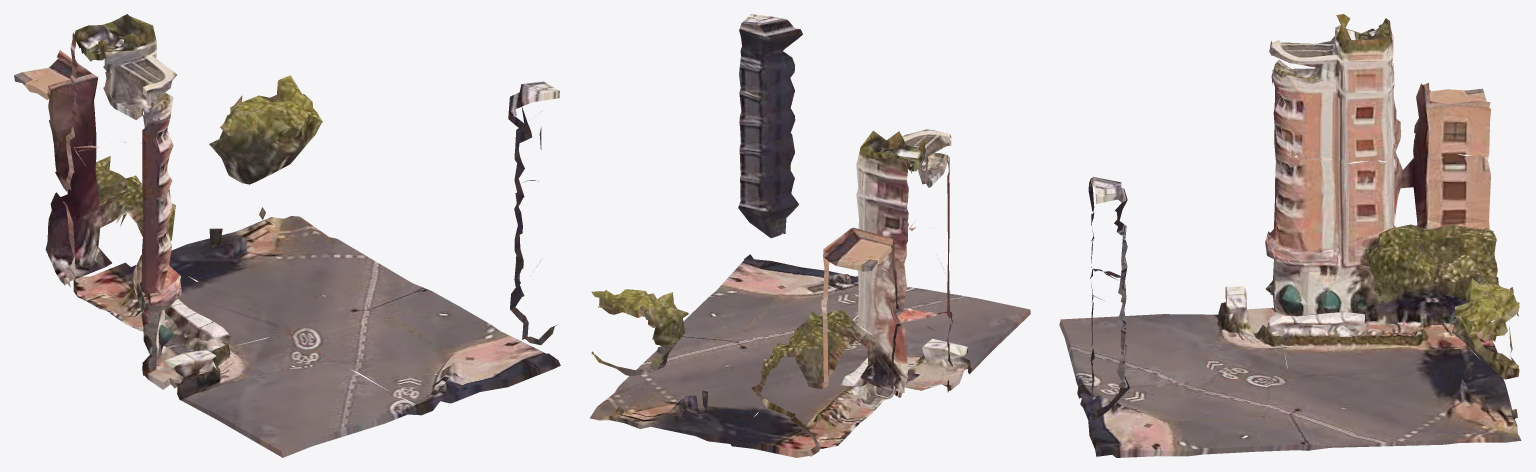
3 views of the same model, side by side, from view 1: azimuth 30°, elevation 25°; view 2: azimuth 150°, elevation 25°; view 3: azimuth 270°, elevation 25° (orthographic). The views are drawn at different scales.
Parts seen in each view (by area): view 1: Mesh_0; view 2: Mesh_0; view 3: Mesh_0.
Boxes of the visible parts, x1=… form: Mesh_0: x1=14, y1=14, x2=560, y2=457; Mesh_0: x1=589, y1=14, x2=1030, y2=457; Mesh_0: x1=1059, y1=14, x2=1521, y2=457.
Size of the model in its own units: 33.43 by 29.83 by 41.49.
2 materials, 2 textured.
